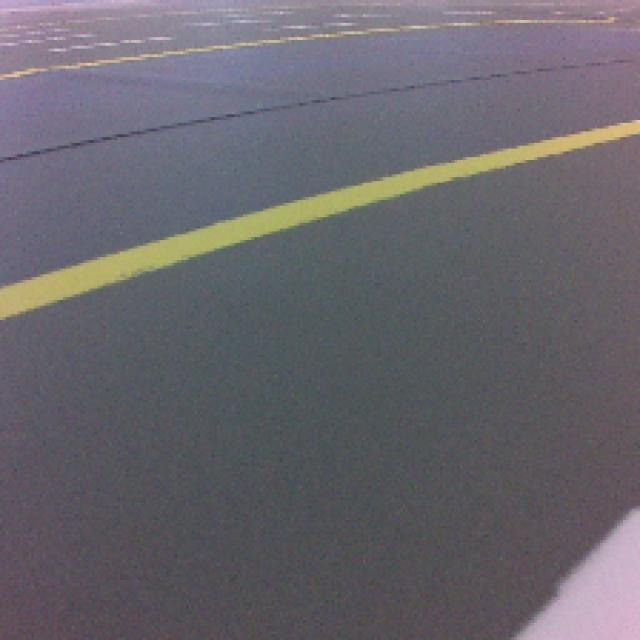Road: (0, 282, 638, 640)
